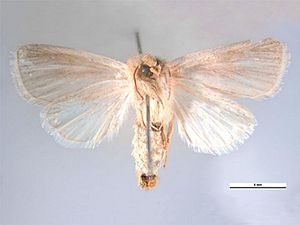Noctuidae: (8, 38, 287, 192)
